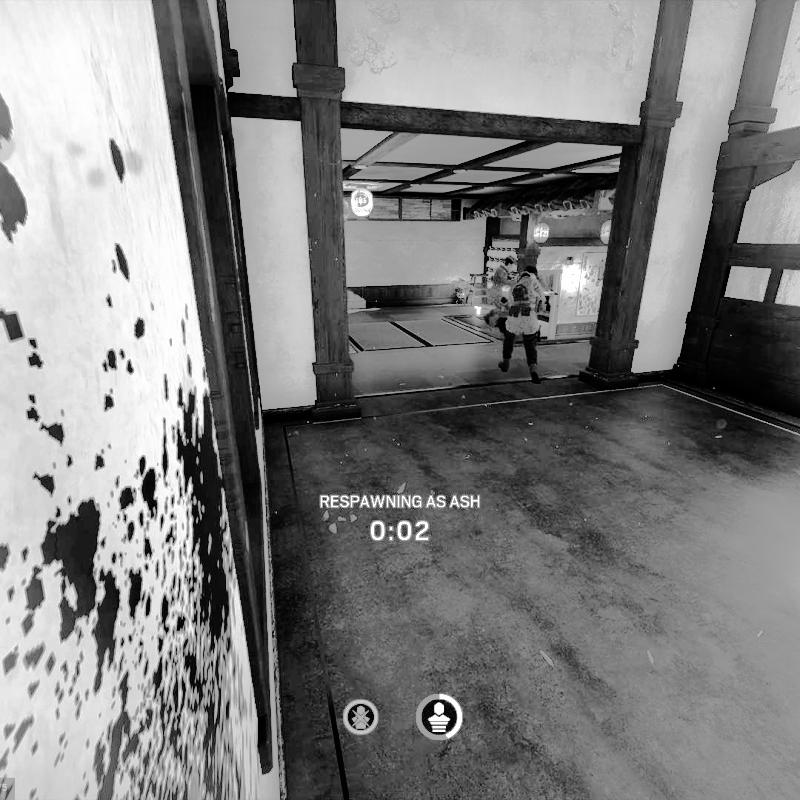Character: (496, 265, 558, 385), (483, 254, 521, 328)
Head: (525, 265, 539, 279), (502, 254, 515, 269)
